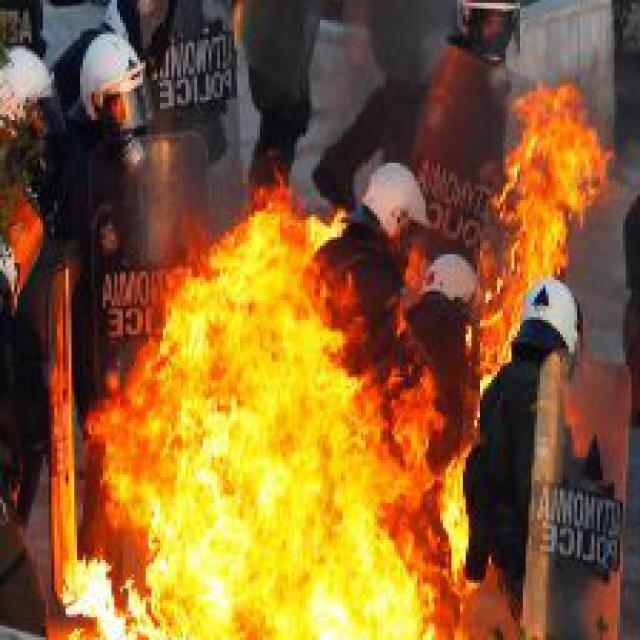fire: (80, 174, 446, 637), (469, 74, 614, 383)
